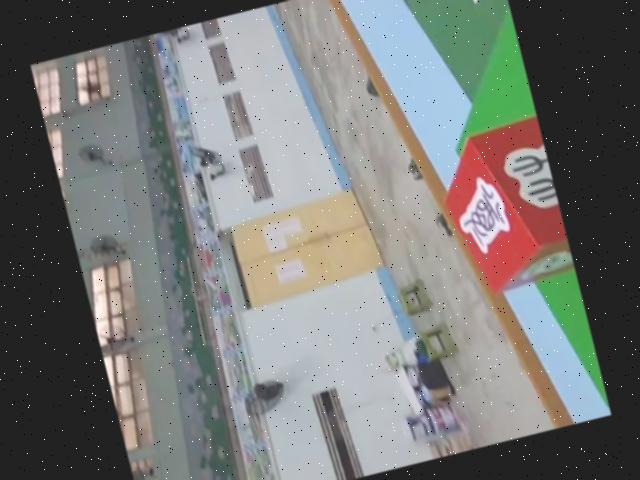R2 Fake: (424, 114, 577, 305)
